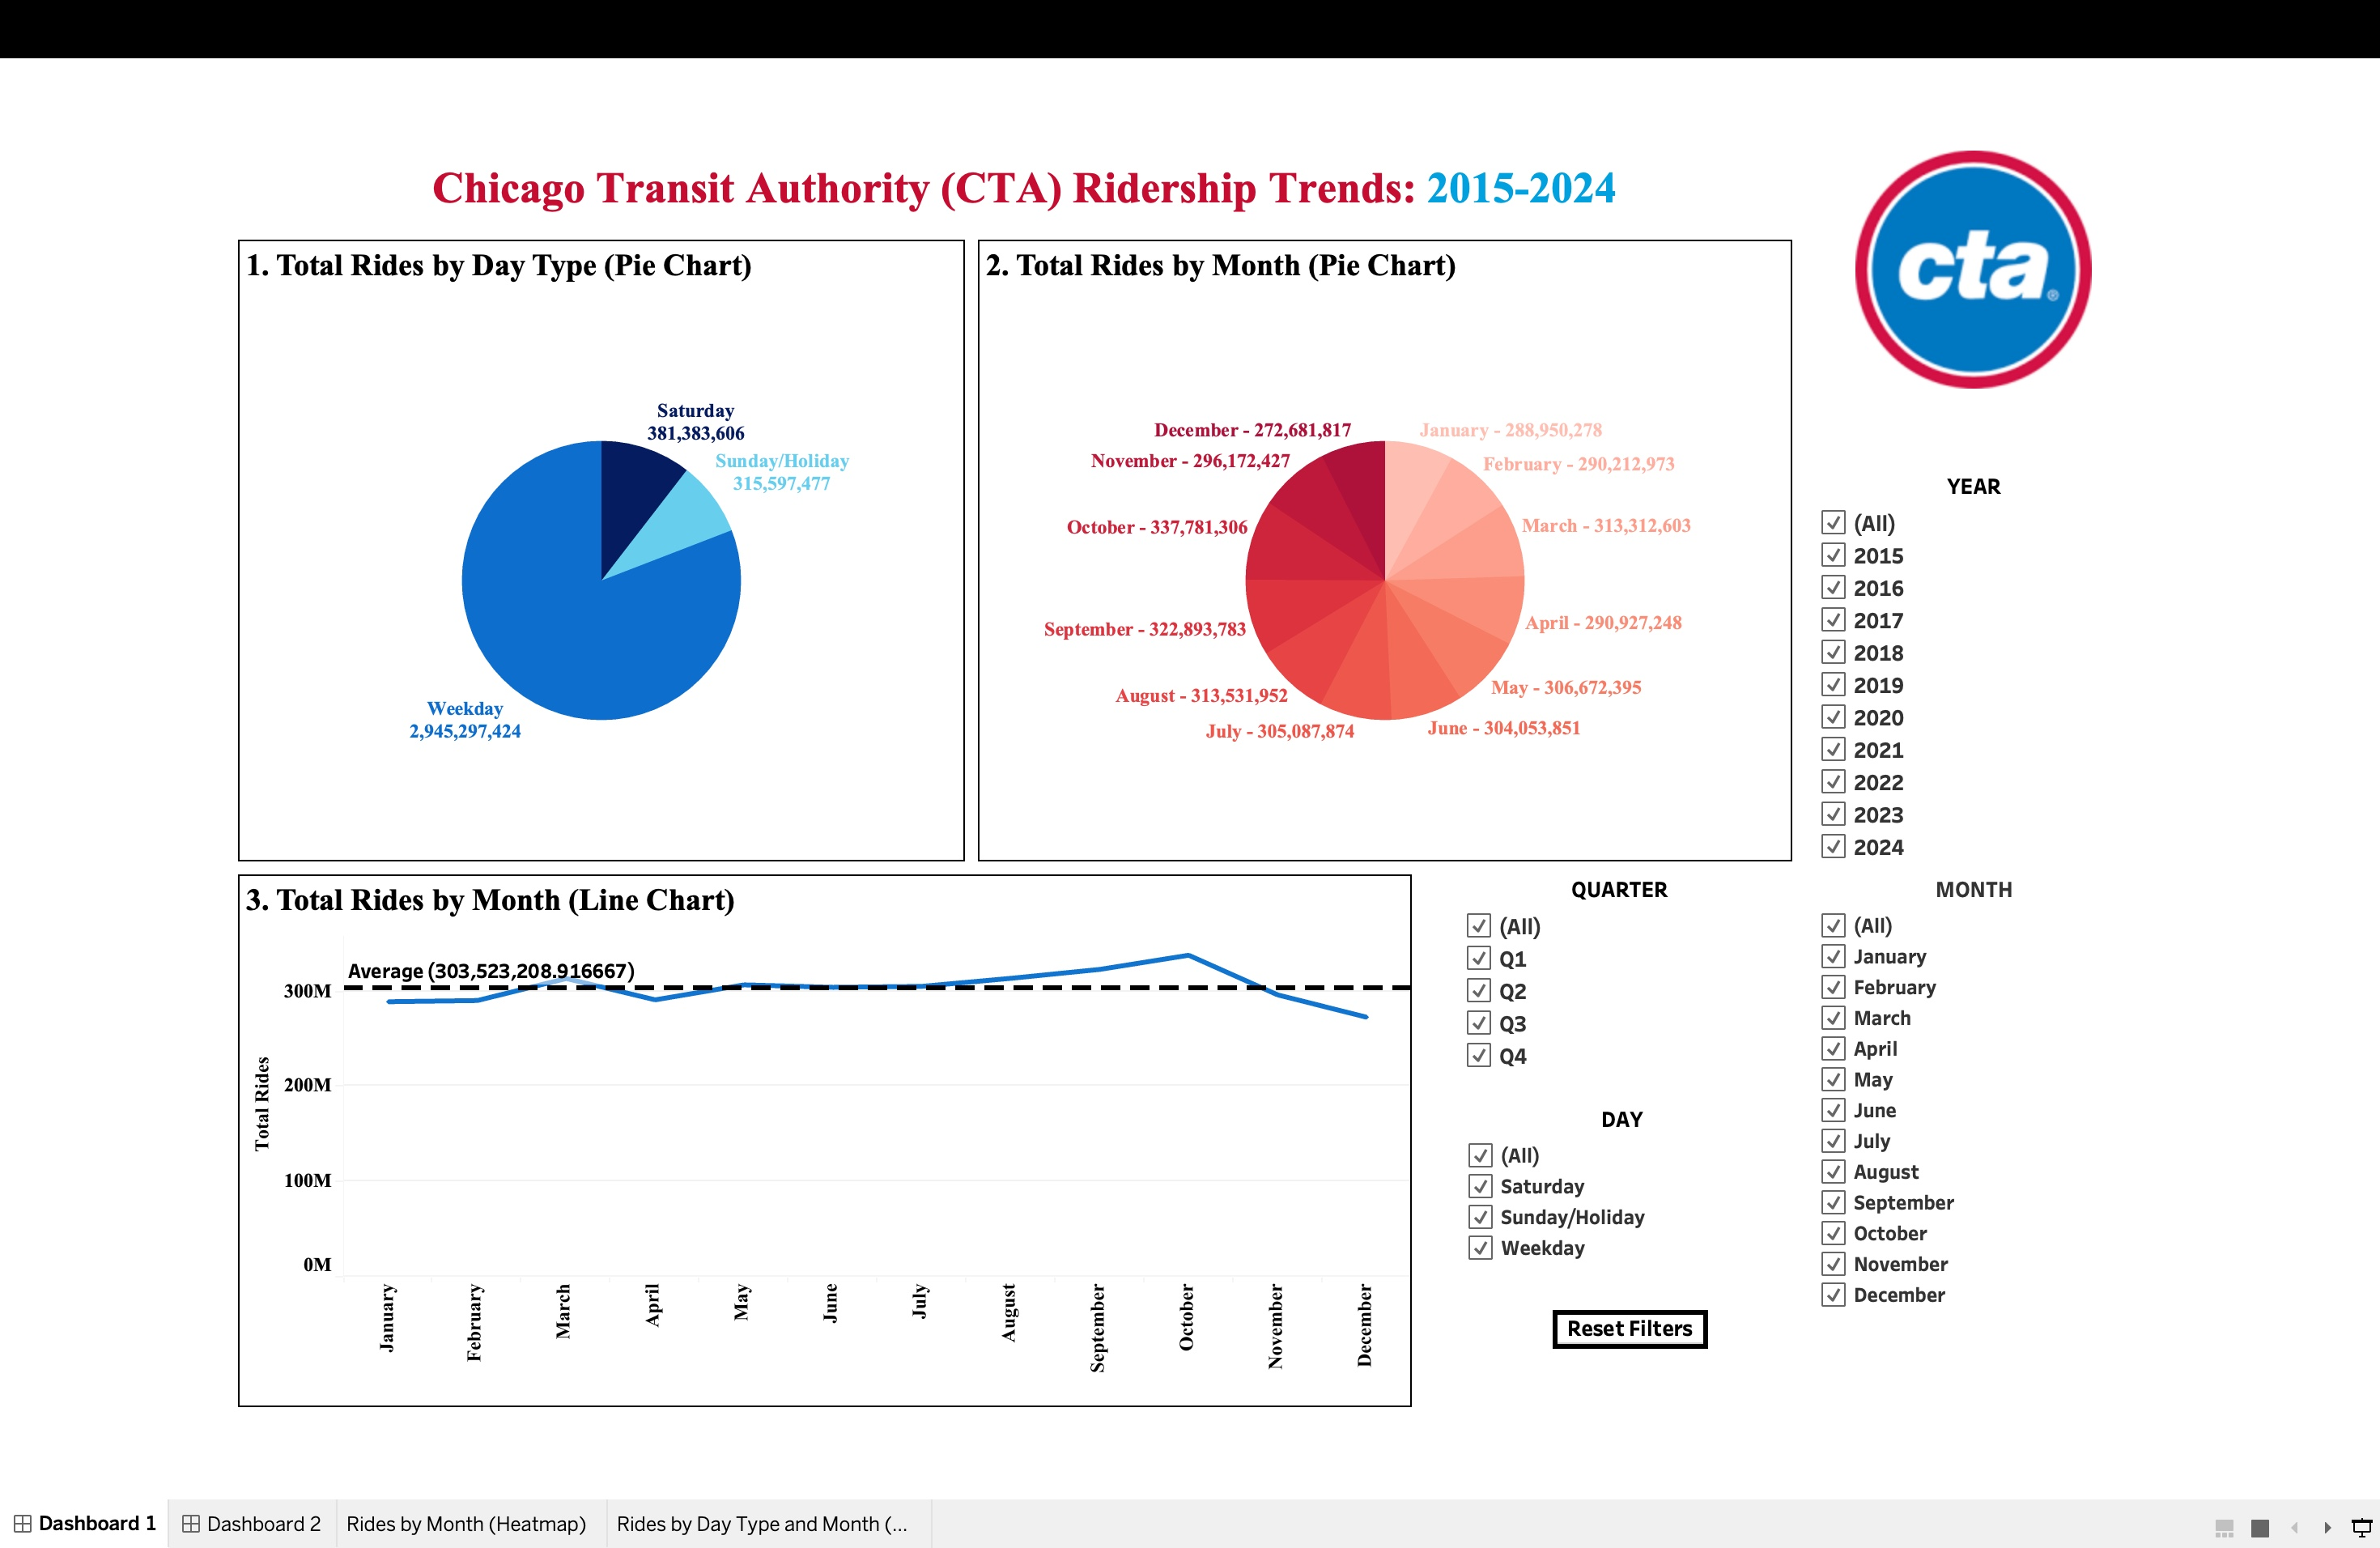

What the dashboard file says about the page in this screenshot:
{"tool":"tableau","page":{"name":"Dashboard 1","canvas":[1200,800],"ordinal":0},"visuals":[{"type":"image","param":"Image/cta.png","box":[976,8,216,155]},{"type":"text","box":[36,9.6,924,50.4]},{"type":"worksheet","title":"1. Total Rides by Day Type (Pie Chart)","mark":"Pie","box":[8,63,457,392]},{"type":"worksheet","title":"2. Total Rides by Month (Pie Chart)","mark":"Pie","box":[465,63,511,392]},{"type":"filter","title":"3. Total Rides by Month (Line Chart)","param":"[federated.050vve11wucfu81aeamjf0phw5mi].[yr:service_date:ok]","box":[984,210,201,260]},{"type":"worksheet","title":"3. Total Rides by Month (Line Chart)","mark":"Line","rows":["total_rides"],"cols":["Calculation_525373099688513537"],"box":[8,455,733,337]},{"type":"filter","title":"3. Total Rides by Month (Line Chart)","param":"[federated.050vve11wucfu81aeamjf0phw5mi].[qr:service_date:ok]","box":[765,459,201,131]},{"type":"filter","title":"1. Total Rides by Day Type (Pie Chart)","param":"[federated.050vve11wucfu81aeamjf0phw5mi].[none:Calculation_525373099687178240:nk","box":[766,601,202,119]},{"type":"worksheet","title":"Reset Filters","mark":"Automatic","box":[824,728,96,24]}]}

Visuals, with their boxes on the page's 1200x800 design canvas (x1, y1, x2, y2). These are canvas units, not pixel positions in the 2380x1548 screenshot, which may show the page scaled, cropped or inside an application window:
image: (976, 8, 1192, 163)
text: (36, 10, 960, 60)
"1. Total Rides by Day Type (Pie Chart)" worksheet (Pie marks): (8, 63, 465, 455)
"2. Total Rides by Month (Pie Chart)" worksheet (Pie marks): (465, 63, 976, 455)
"3. Total Rides by Month (Line Chart)" filter: (984, 210, 1185, 470)
"3. Total Rides by Month (Line Chart)" worksheet (Line marks): (8, 455, 741, 792)
"3. Total Rides by Month (Line Chart)" filter: (765, 459, 966, 590)
"1. Total Rides by Day Type (Pie Chart)" filter: (766, 601, 968, 720)
"Reset Filters" worksheet: (824, 728, 920, 752)
